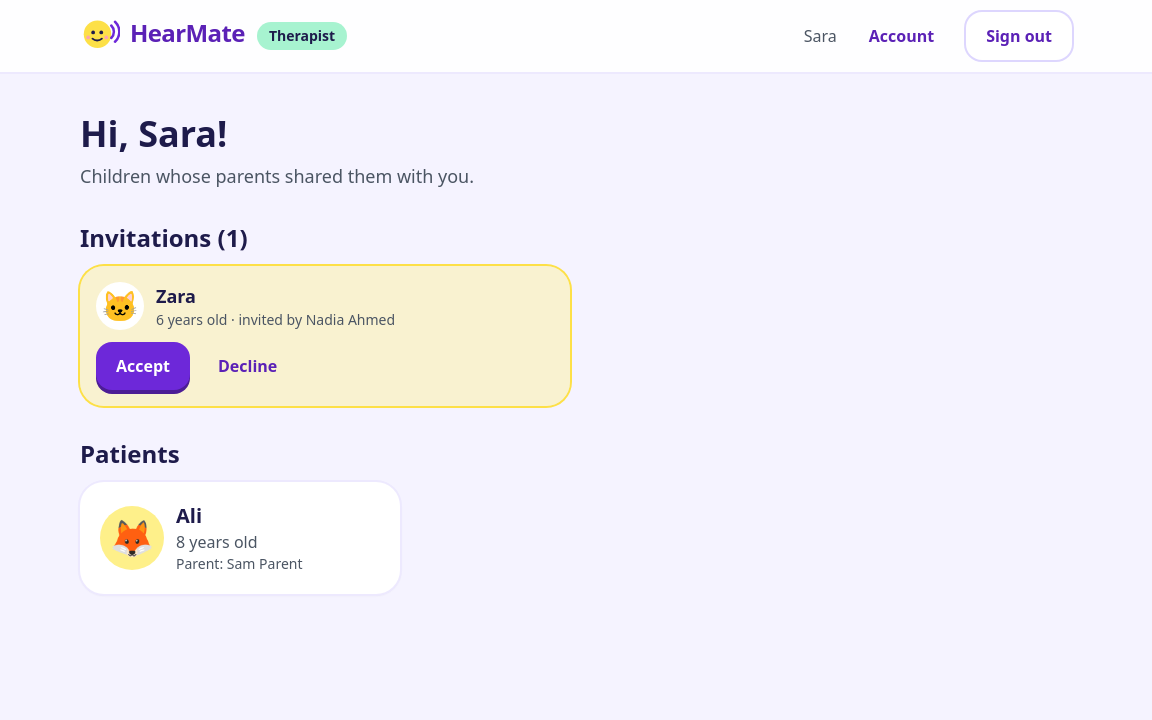
Test case: Therapist dashboard: approved › declines an invitation only after confirming
Click the button with aria-label "Decline invitation for Zara": (248, 366) [198, 342, 297, 390]
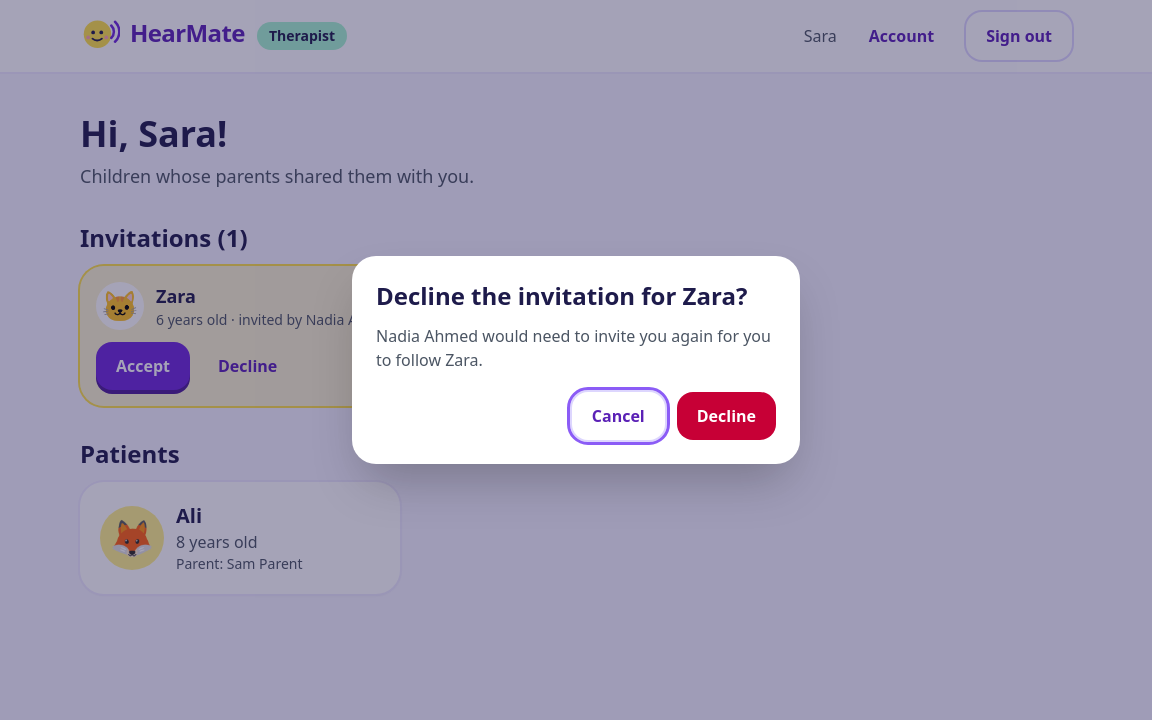
Click the button "Cancel": (618, 416) [572, 392, 665, 440]
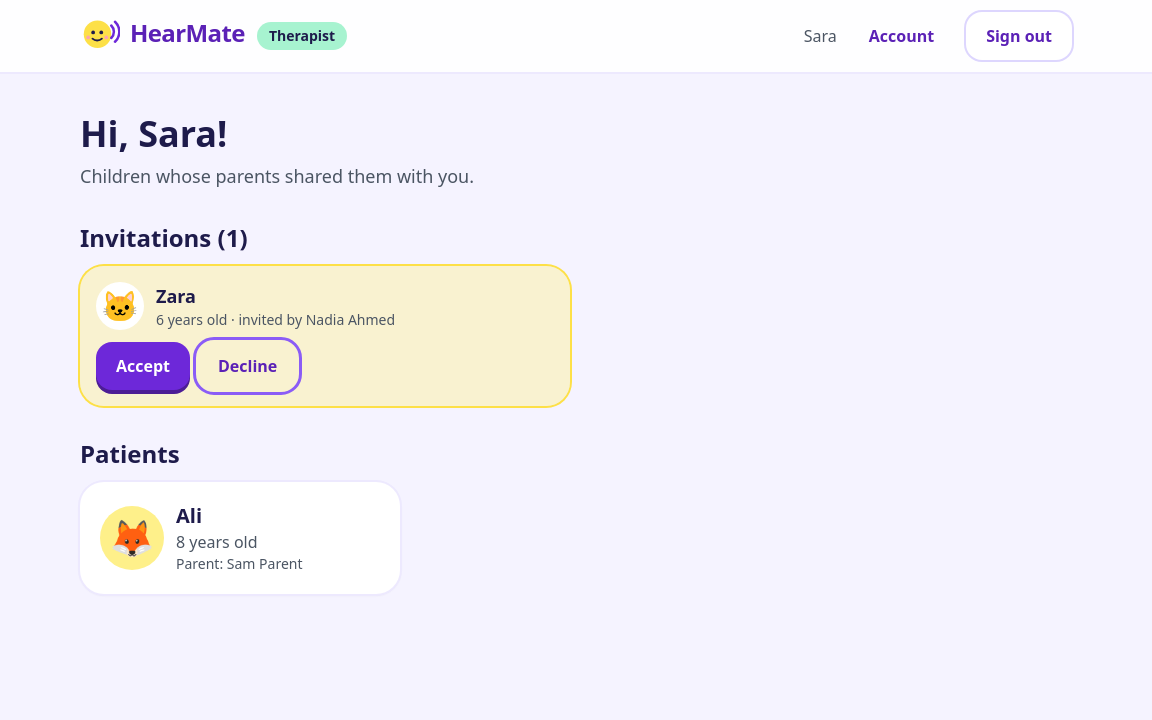
Click the button with aria-label "Decline invitation for Zara": (248, 366) [198, 342, 297, 390]
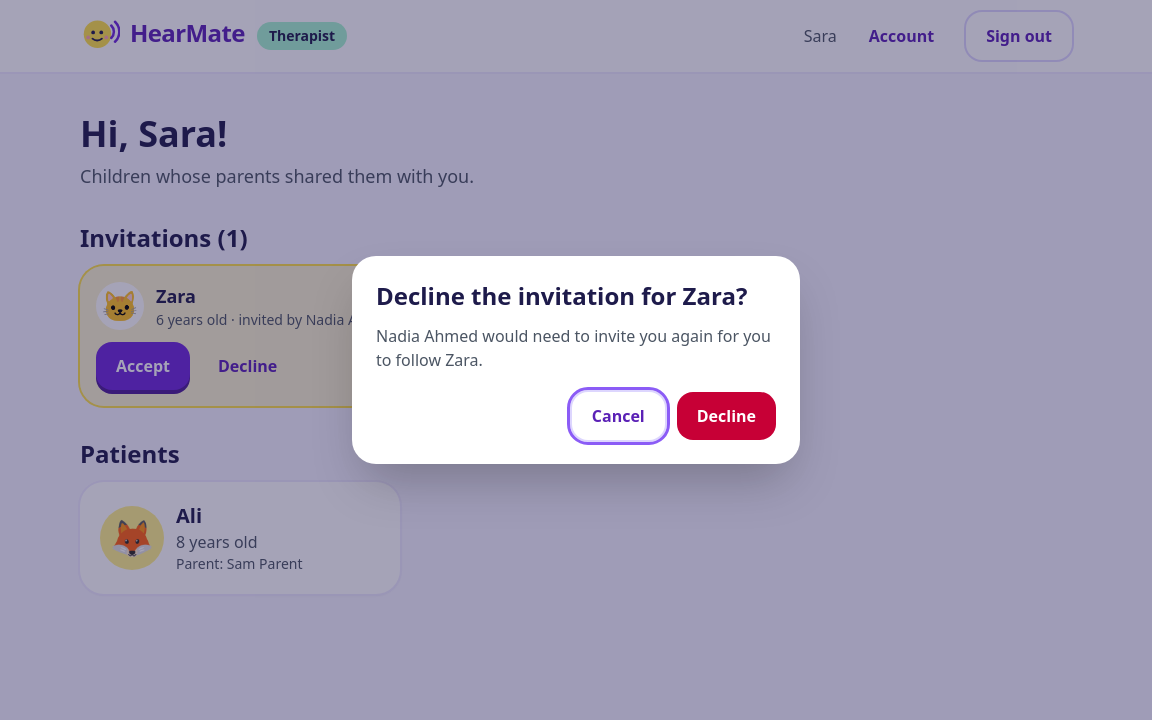
Click the button "Decline": (726, 416) [677, 392, 776, 440]
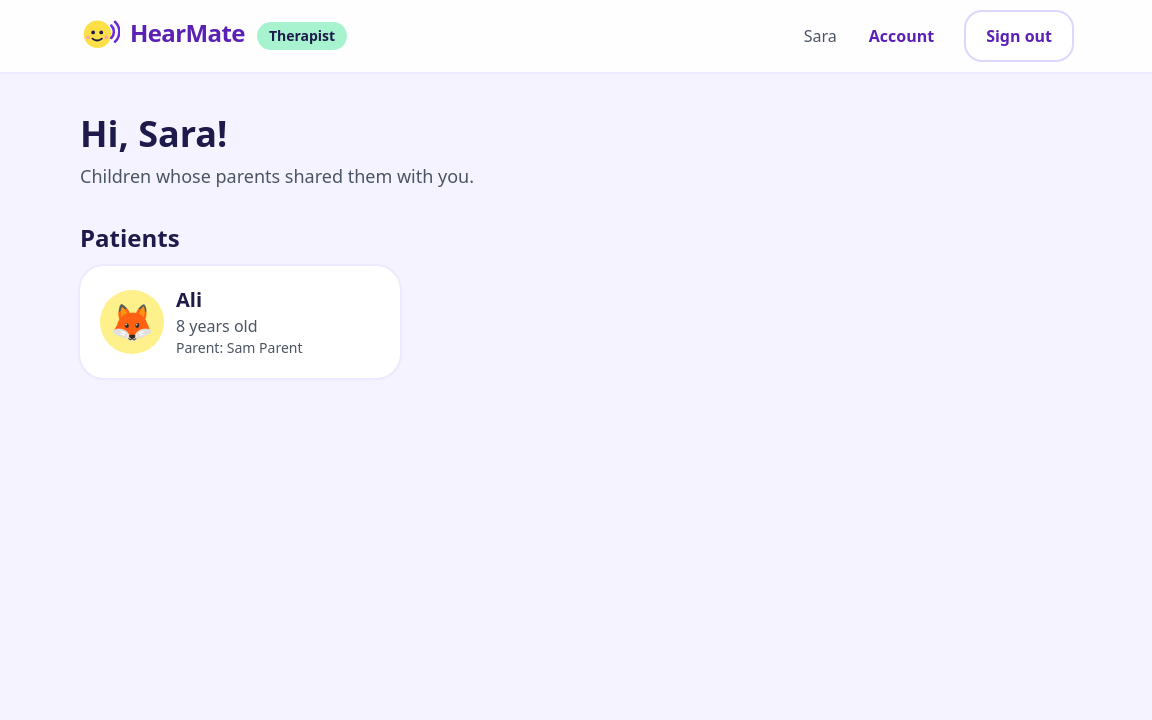
Expected: the heading "Patients" is shown, [80, 221, 180, 254]
Expected: the heading "Zara" is gone
